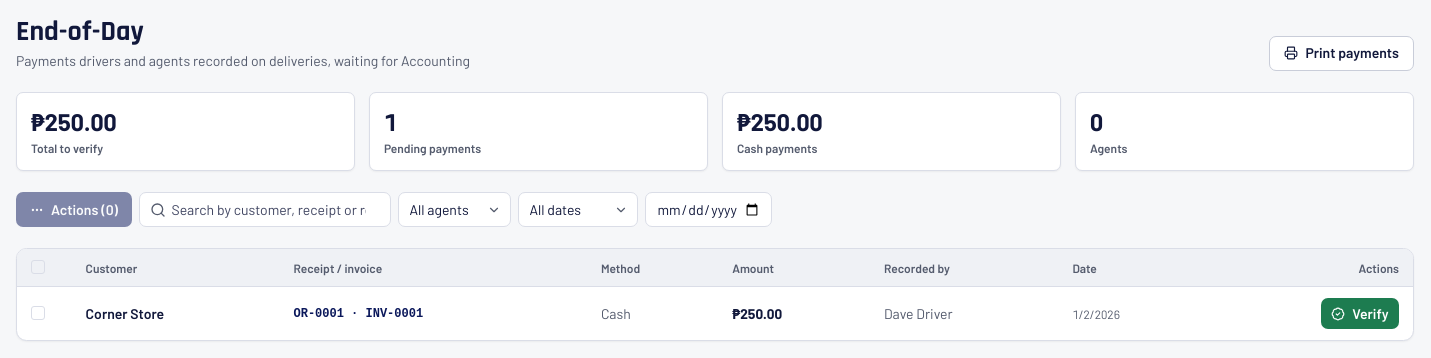
Test: PaymentVerification › shows an error when the receipt is unavailable
Click the link "OR-0001 · INV-0001": (319,314) [294,306,423,320]
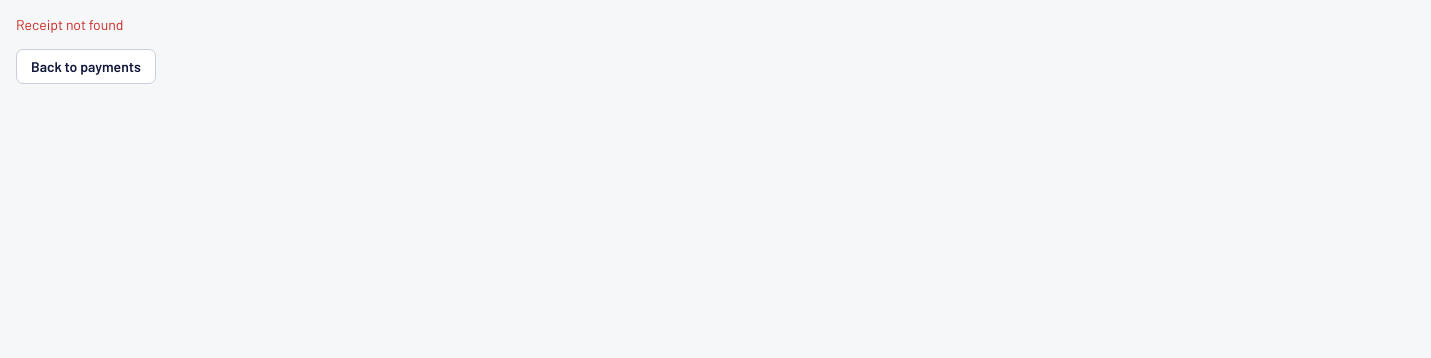
expect the message reads "Receipt not found": met, box [16,16,123,33]
expect the link "Back to payments" is shown: met, box [16,49,156,84]
